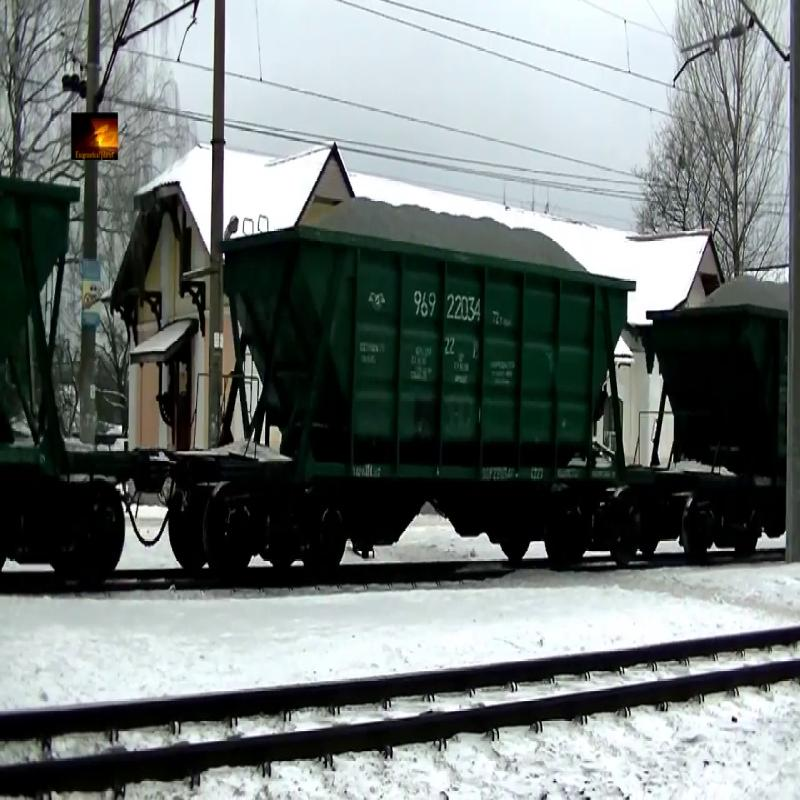train: (180, 184, 631, 582)
